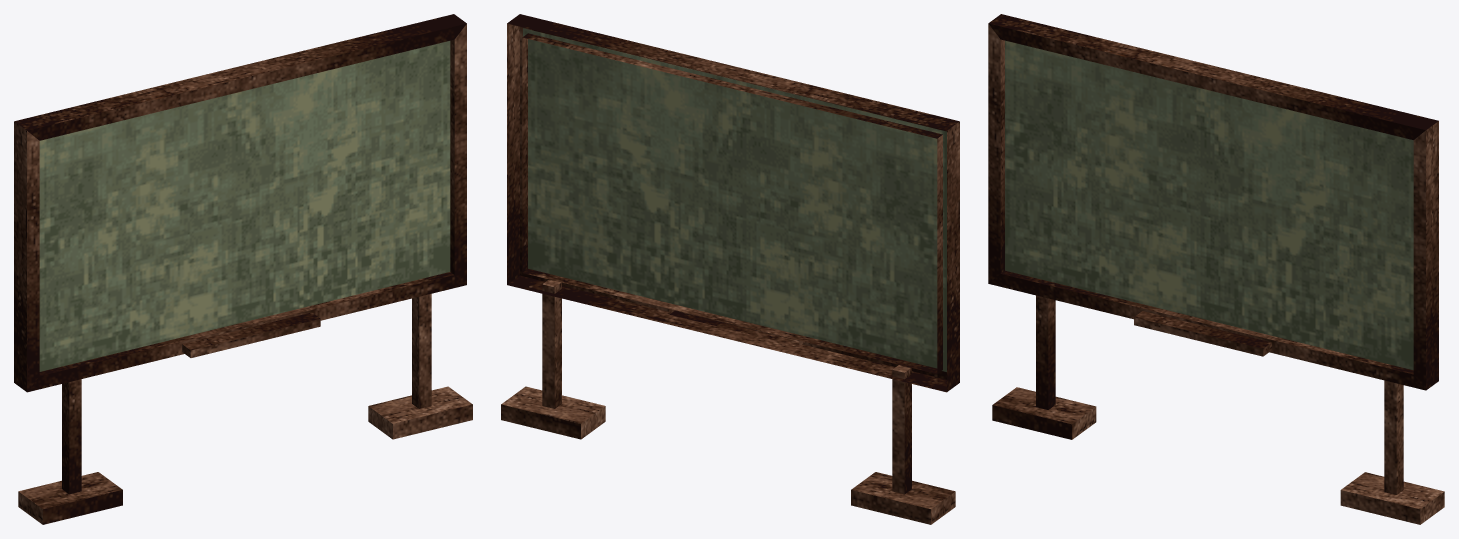
The model's file is Pizarra.fbx.
3 views of the same model, side by side, from view 1: azimuth 30°, elevation 25°; view 2: azimuth 150°, elevation 25°; view 3: azimuth 330°, elevation 25° (orthographic).
Visible parts, largest first — view 1: Pizarra; view 2: Pizarra; view 3: Pizarra.
Part boxes in pixels (x1,y1,x2,y2): Pizarra: (14, 14, 472, 524); Pizarra: (501, 14, 959, 524); Pizarra: (988, 14, 1444, 524).
Bounding box in the file's own units: 2.11 × 1.8 × 0.228.
